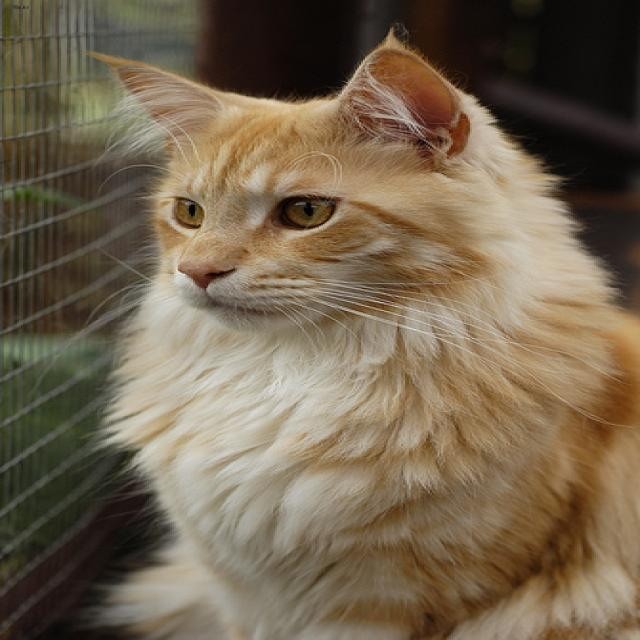Maine_Coon: (77, 32, 511, 349)
